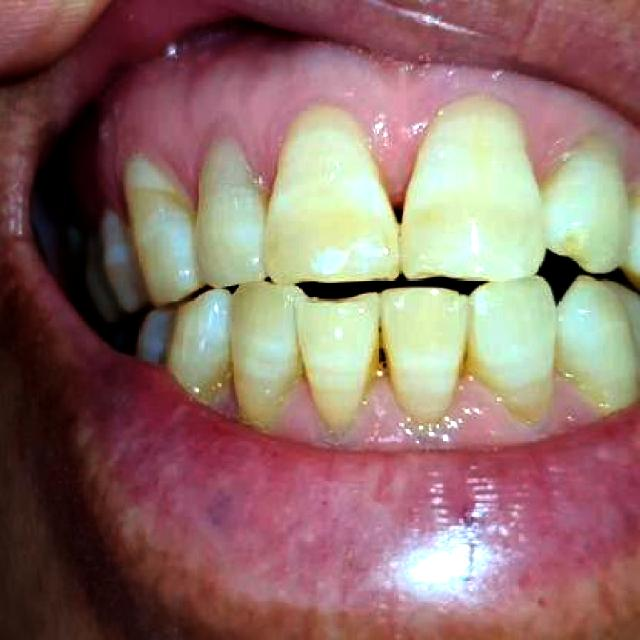Plaque: (262, 365, 605, 453)
